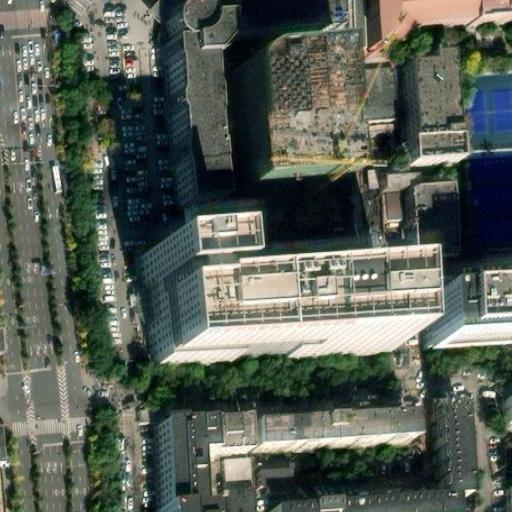building: (147, 284, 381, 373), (228, 54, 325, 187), (212, 406, 409, 445), (154, 416, 216, 512), (397, 71, 449, 175), (463, 147, 512, 247), (422, 293, 512, 344), (274, 489, 461, 512), (435, 394, 471, 490), (406, 205, 452, 280), (142, 249, 205, 290), (214, 464, 250, 512), (494, 384, 512, 410)
